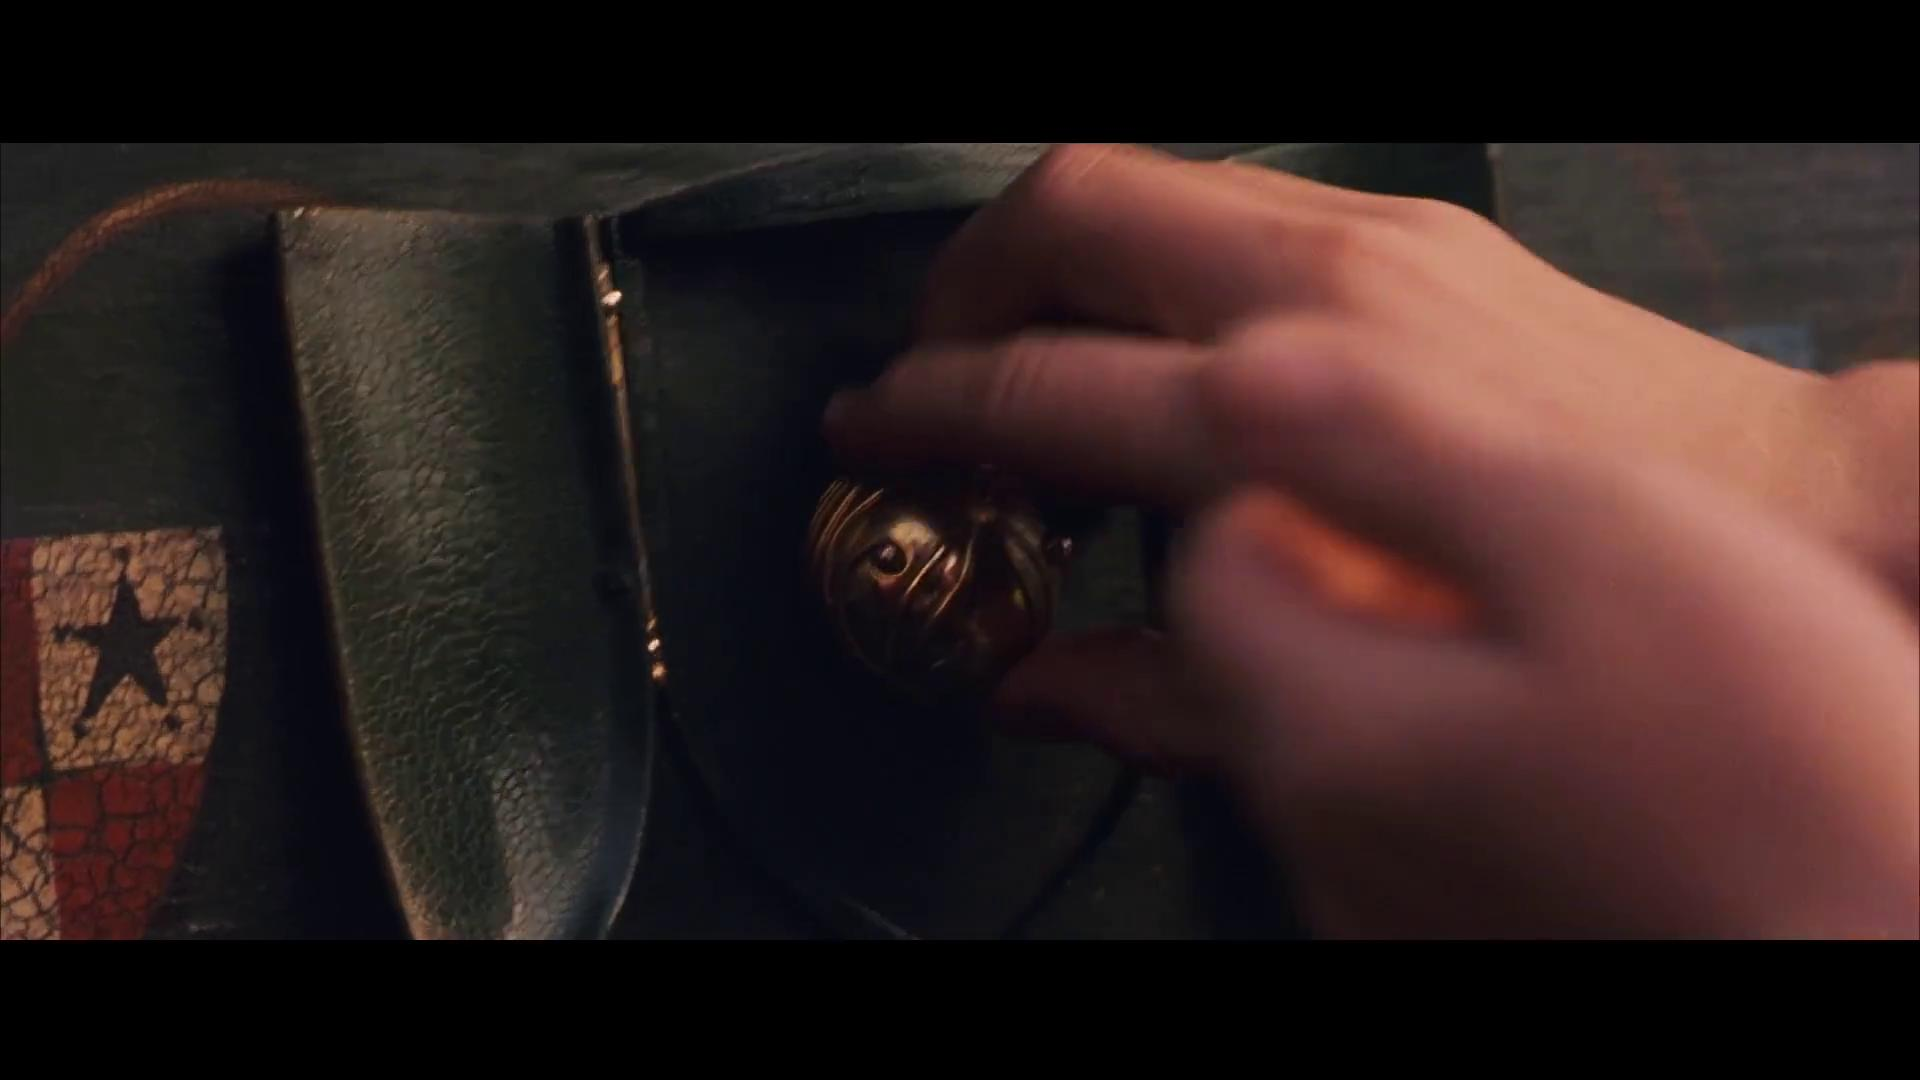snitch: (804, 465, 1054, 698)
